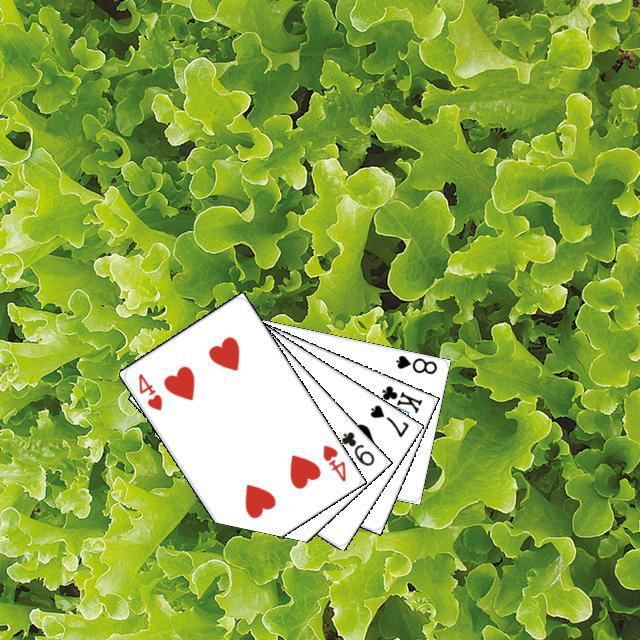4h: (133, 368, 164, 412), (317, 440, 348, 483)
7s: (365, 400, 411, 439)
8s: (391, 350, 439, 376)
9c: (336, 427, 376, 468)
Kc: (369, 380, 424, 416)
